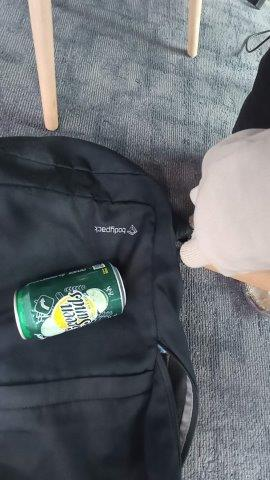kaleng: (13, 263, 126, 340)
